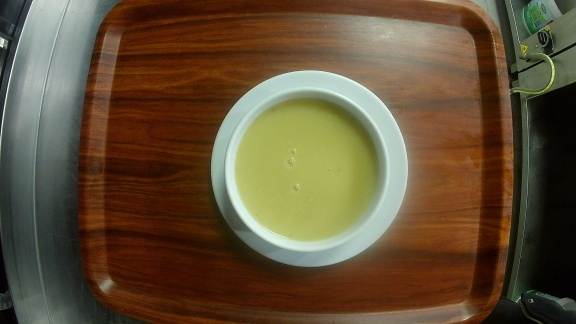mercimek: (209, 70, 410, 271)
